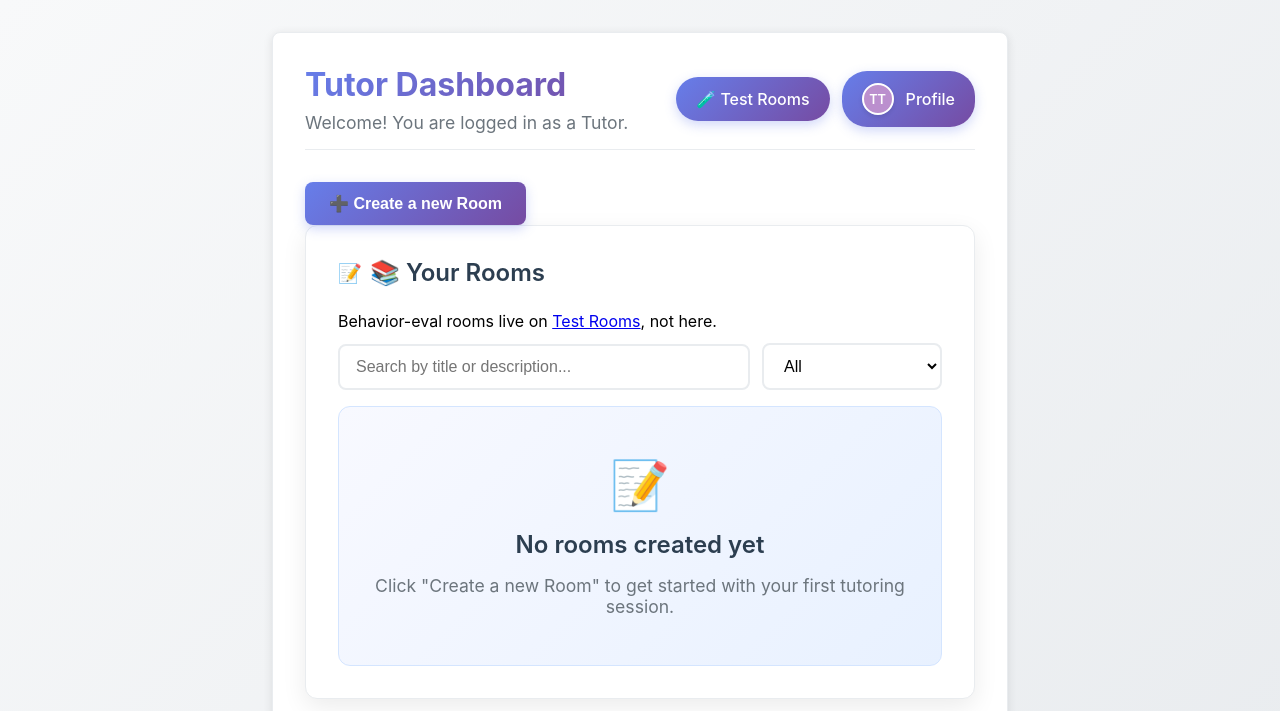
Test: Room Template Management › Cyberbullying templates › keeps creation blocked until a Cyberbullying template is chosen
Click the button "➕ Create a new Room" at (415, 204), box [305,182,526,225]
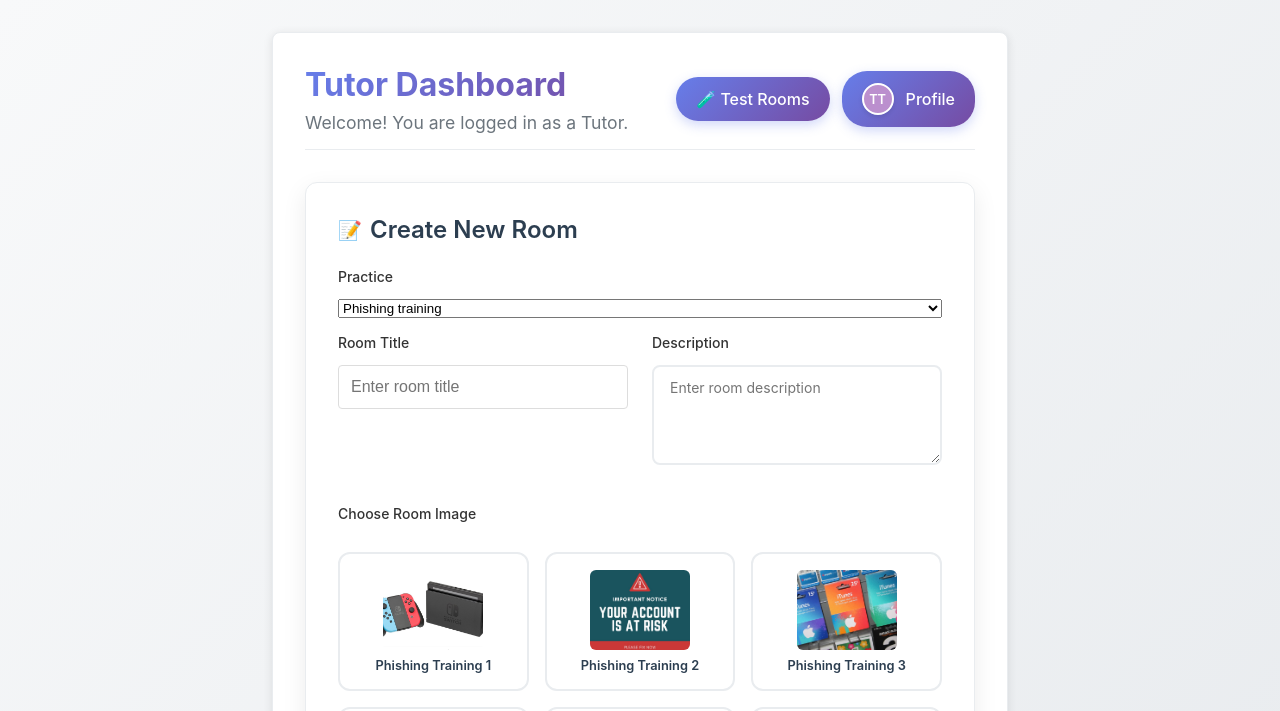
Select "Cyberbullying practise" in the dropdown labelled "Practice" at (640, 308), box [338,299,942,318]
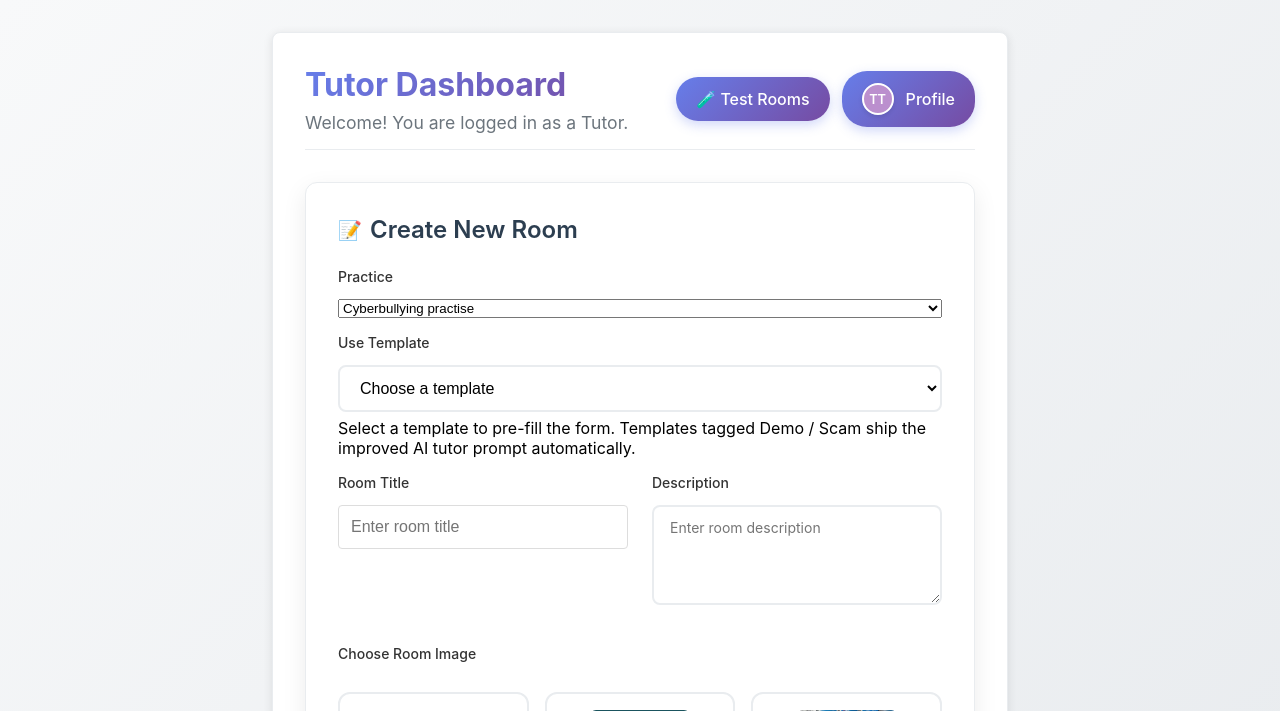
Type "Pending" into the field labelled "Room Title" at (483, 527), box [338,505,628,549]
(page scrolled)
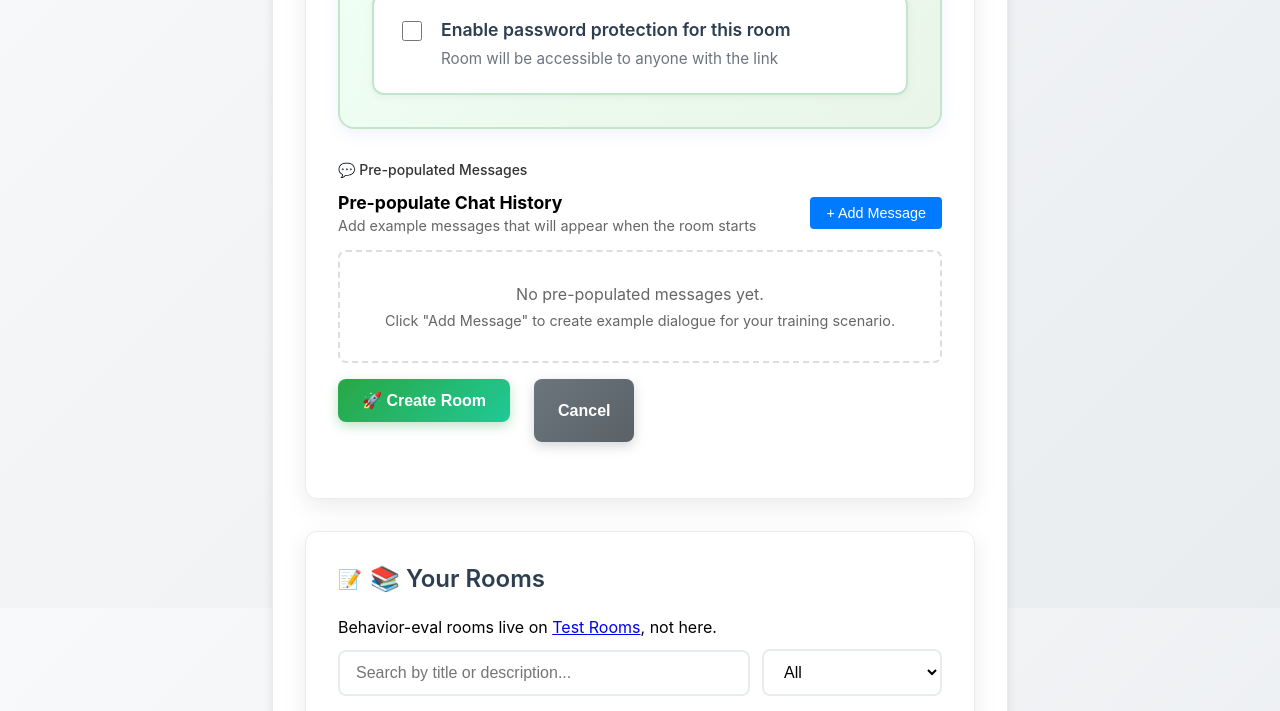
Click the button "🚀 Create Room" at (424, 401), box [338,379,510,422]
(page scrolled)
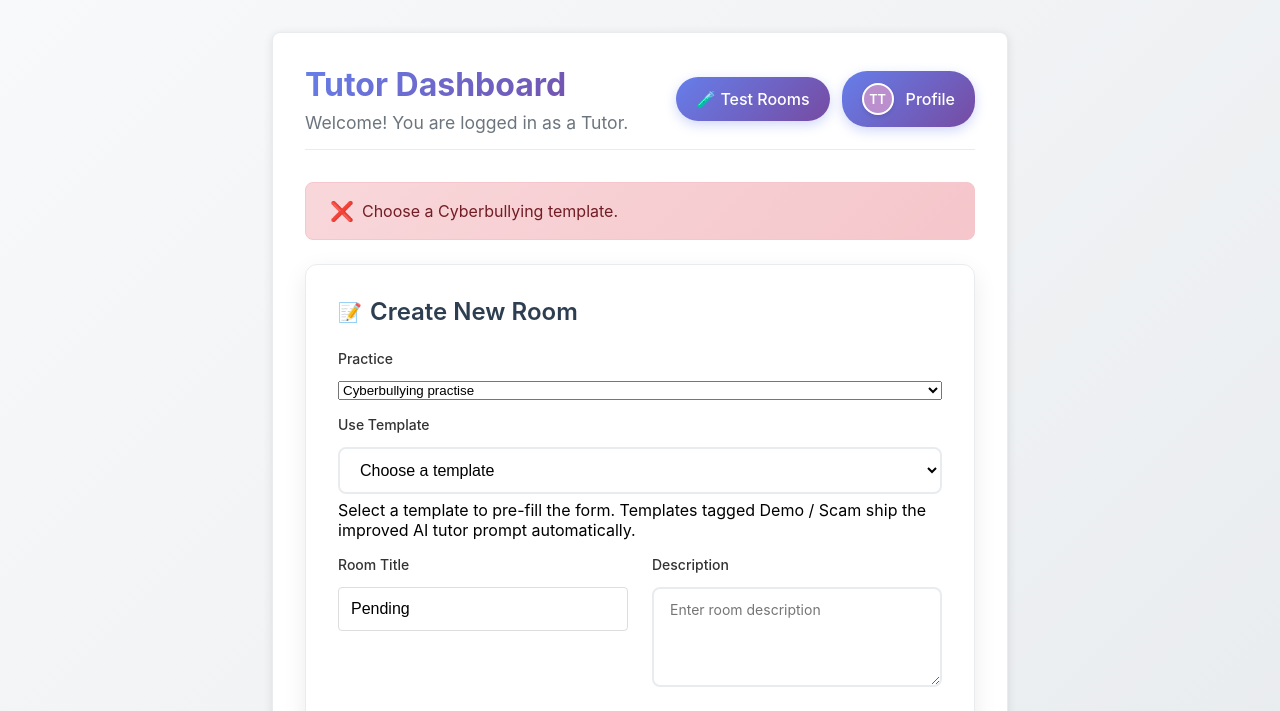
Check: the text "Choose a Cyberbullying template." is shown, box [305,182,975,240]
